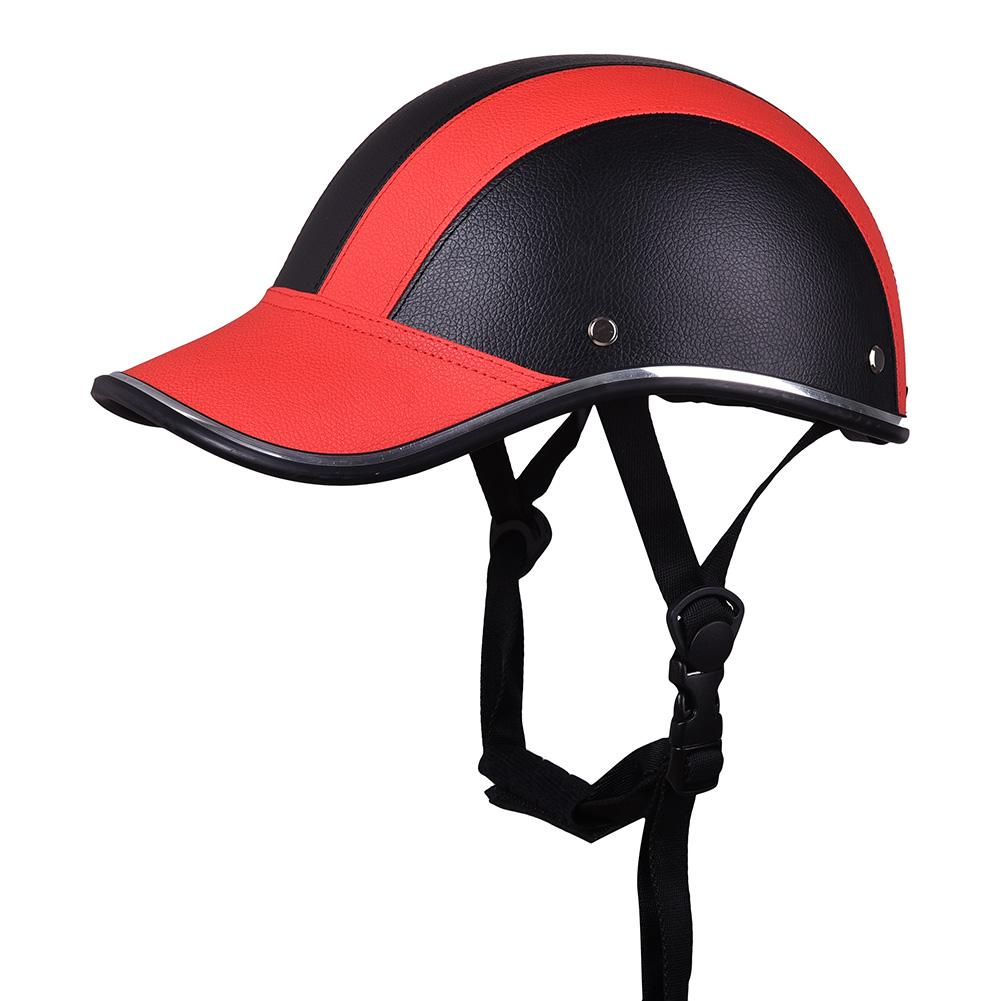Helmet: (64, 40, 936, 495)
